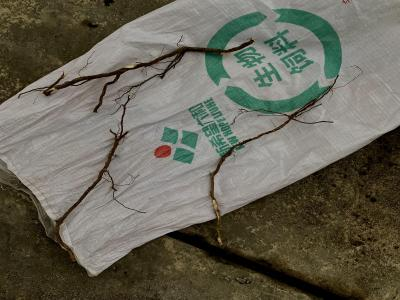Root: (210, 75, 338, 244), (17, 38, 255, 113), (56, 130, 129, 243)
